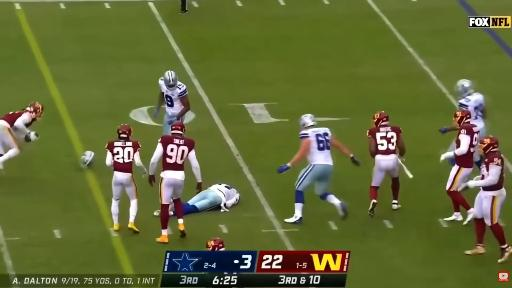Helmet: (455, 80, 474, 98), (479, 136, 498, 154), (26, 103, 43, 119), (454, 110, 471, 126), (206, 237, 225, 251), (299, 114, 316, 129), (163, 71, 177, 89), (117, 124, 132, 140), (373, 112, 389, 127), (80, 151, 94, 167), (171, 122, 185, 135)
Jersey: (159, 135, 194, 173), (299, 128, 333, 165), (106, 140, 141, 173), (159, 78, 187, 115), (367, 126, 402, 155), (455, 124, 478, 168), (459, 93, 484, 130), (481, 152, 504, 191), (209, 184, 239, 203), (0, 111, 35, 127)
Player: (278, 114, 359, 223), (459, 136, 511, 263), (149, 122, 201, 237), (106, 125, 146, 232), (441, 110, 478, 224), (367, 112, 405, 217), (0, 103, 43, 169), (154, 71, 190, 134), (455, 80, 486, 140), (183, 184, 239, 215), (206, 237, 225, 251)
